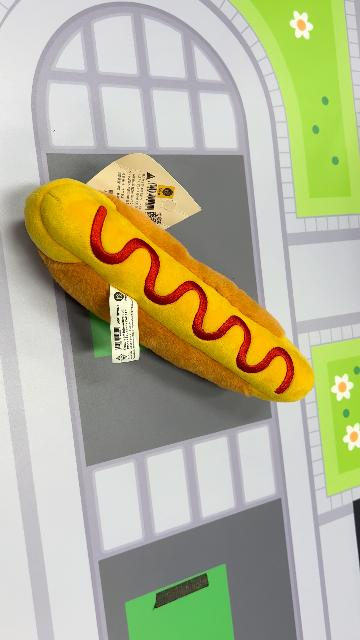hotdog: (24, 177, 316, 405)
